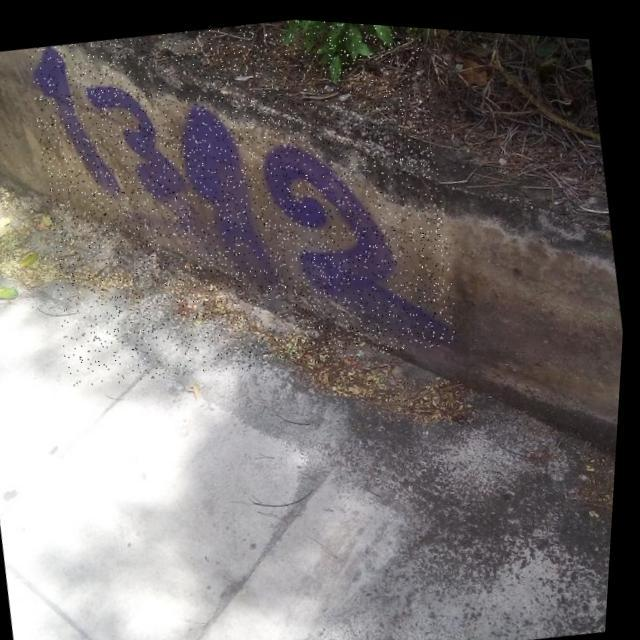-: (13, 2, 477, 407)
